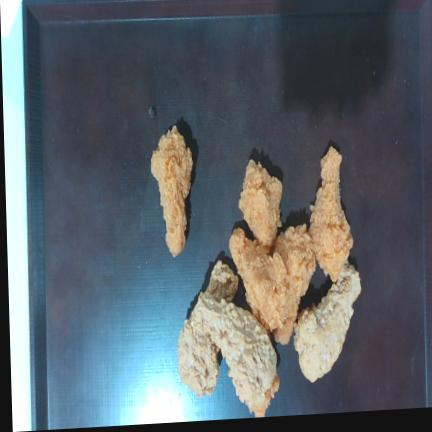chicken: (193, 293, 278, 417), (294, 261, 361, 382), (309, 147, 353, 281), (230, 229, 286, 331), (151, 125, 193, 257), (239, 159, 282, 247), (178, 311, 219, 396), (207, 261, 238, 301)
